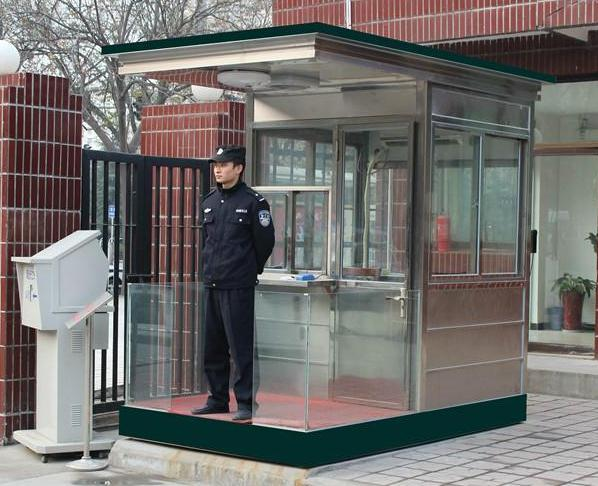up: (184, 139, 277, 428)
